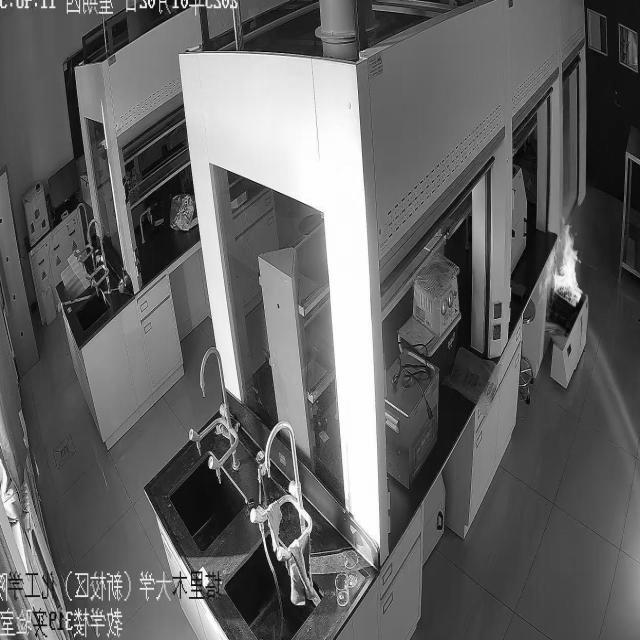smoke: (546, 215, 584, 308)
